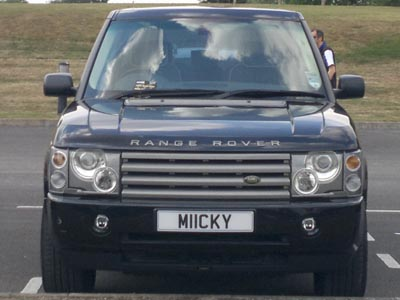licencePlate: (156, 209, 256, 232)
